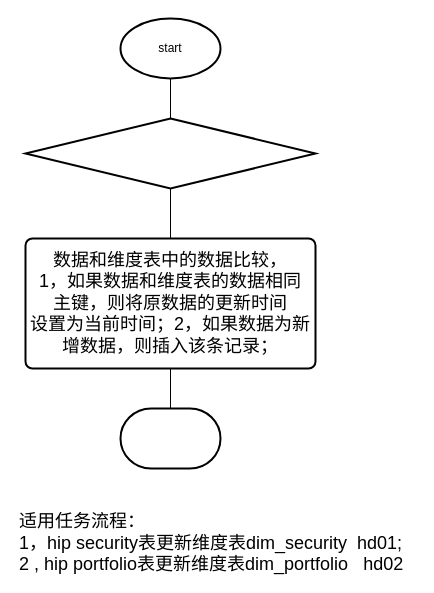
Some shapes in this 434 by 593 pixel diagram are drawn without their labels. The centre of each missing label's shape, as x and y in pixels:
end: [170,438]
根据调度信号判断， 任务是否需要执行: [170,153]
